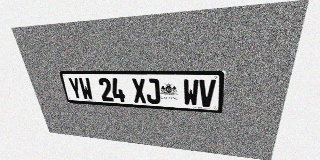2: (98, 78, 114, 101)
4: (110, 78, 126, 102)
J: (145, 78, 160, 104)
V: (199, 79, 216, 107)
W: (183, 79, 199, 106), (78, 77, 94, 100)
X: (131, 78, 147, 103)
Y: (67, 77, 83, 100)
